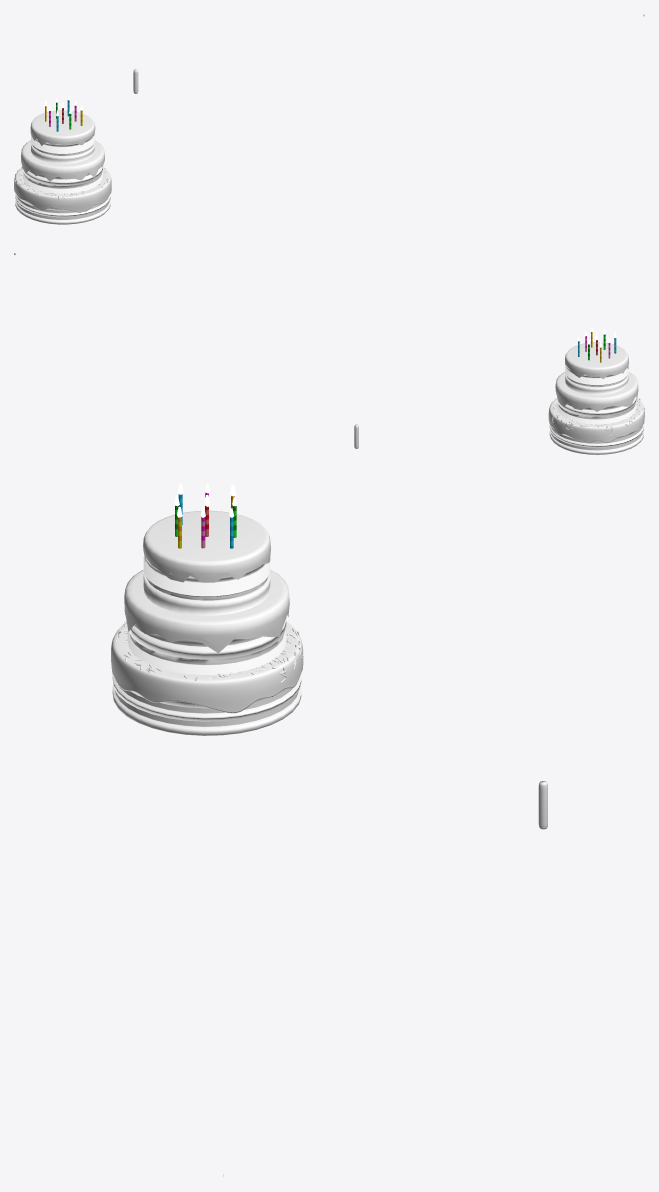
File: cake-v1.glb
3 renders of one model, top to bottom at view 1: azimuth 30°, elevation 25°; view 2: azimuth 150°, elevation 25°; view 3: azimuth 270°, elevation 25°, orthographic. The views are drawn at different scales.
Visible parts, largest first — view 1: Cylinder, Cylinder.001, Cylinder.003, Cylinder.002; view 2: Cylinder, Cylinder.001, Cylinder.003, Cylinder.002; view 3: Cylinder, Cylinder.001, Cylinder.003, Cylinder.002.
Part boxes in pixels (x1,y1,x2,y2): Cylinder: (15,135,110,224); Cylinder.001: (14,167,111,212); Cylinder.003: (30,110,95,145); Cylinder.002: (21,140,104,181); Cylinder: (549,365,643,454); Cylinder.001: (548,398,644,443); Cylinder.003: (565,342,628,379); Cylinder.002: (555,372,638,411); Cylinder: (112,556,301,735); Cylinder.001: (111,622,303,713); Cylinder.003: (143,510,270,582); Cylinder.002: (124,569,289,653).
Bounding box in the file's own units: 15.17 × 2.37 × 4.63.
